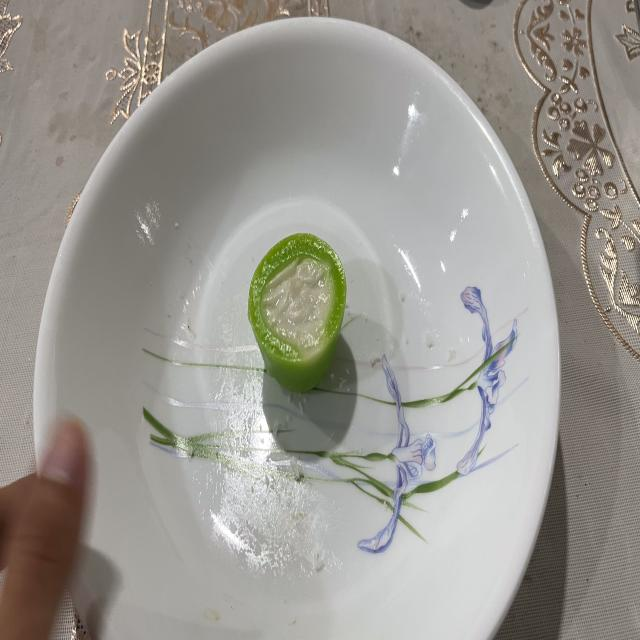nona-manis: (249, 233, 346, 391)
